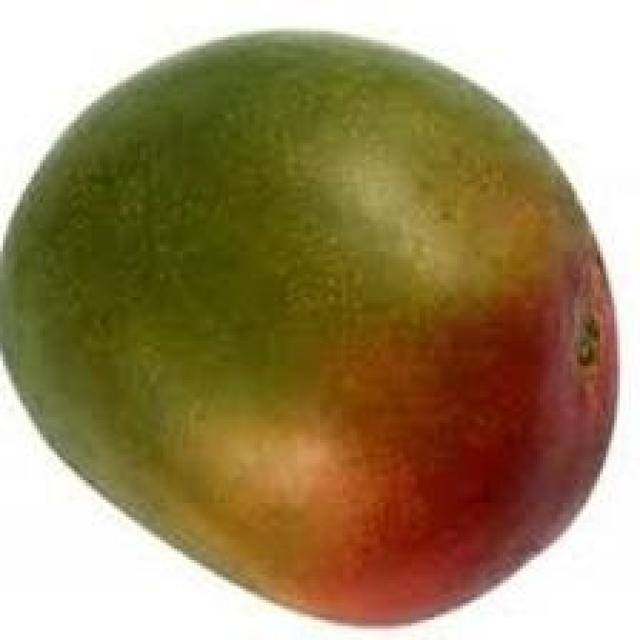Good_Mango: (0, 29, 623, 626)
